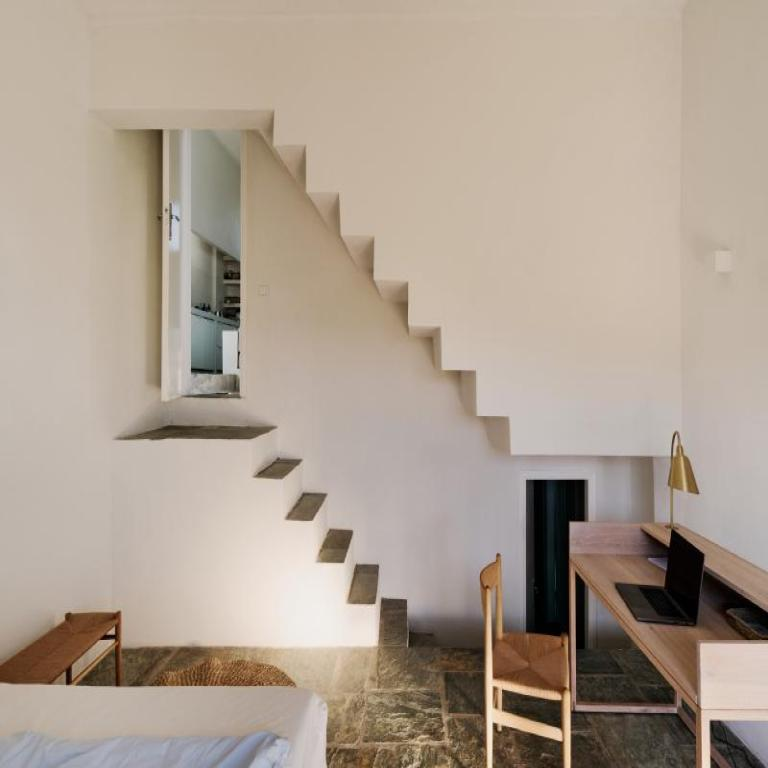white-walls: (105, 37, 651, 419)
